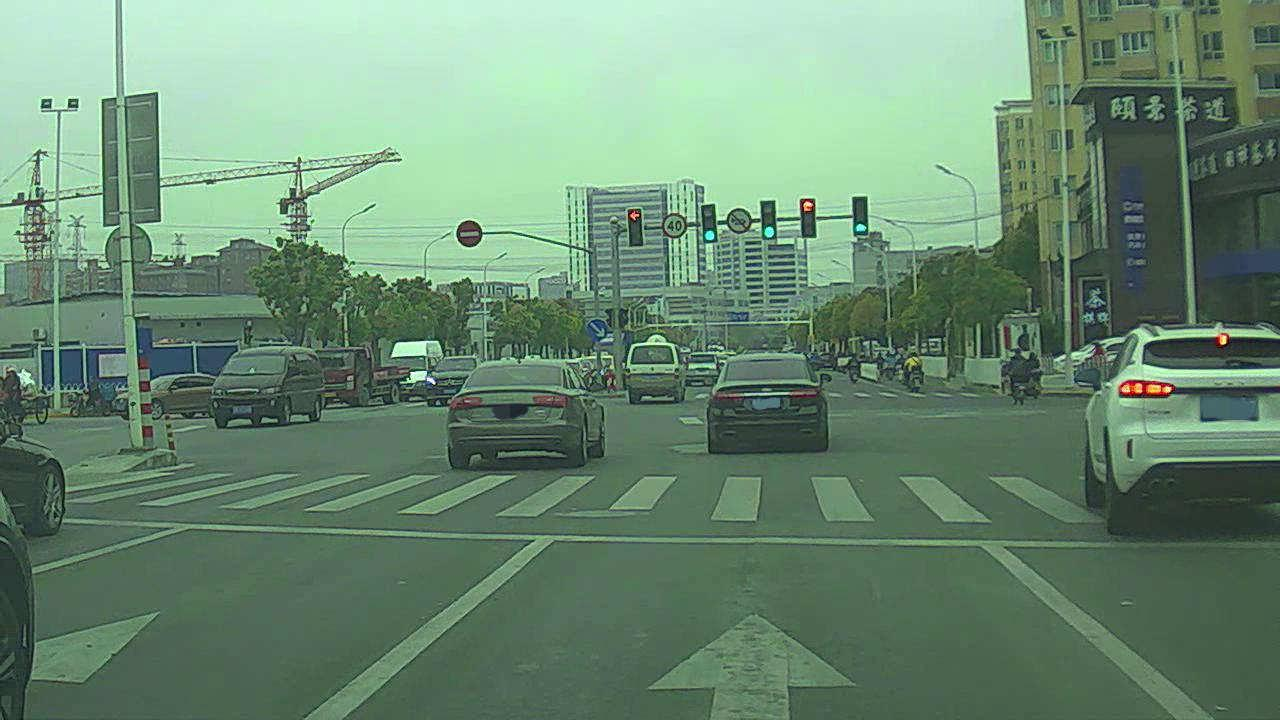traffic_light: (759, 198, 779, 240), (849, 196, 869, 234), (629, 209, 645, 247), (702, 201, 716, 241), (801, 198, 816, 233)
